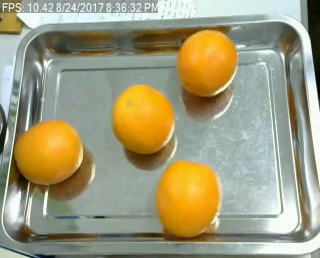Orange: (155, 160, 222, 239), (11, 117, 84, 184), (114, 84, 176, 154), (176, 27, 238, 97)
